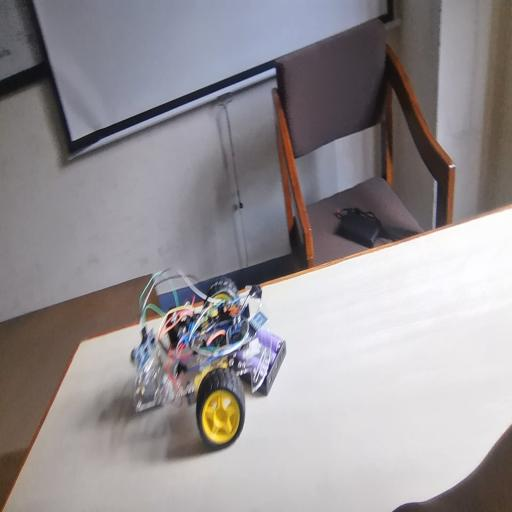car: (109, 266, 320, 447)
